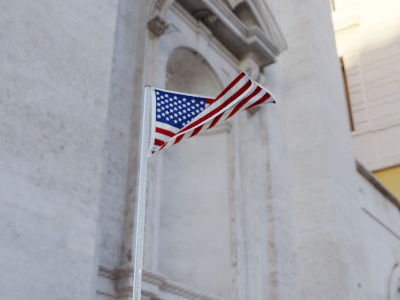America flag: (150, 70, 277, 156)
